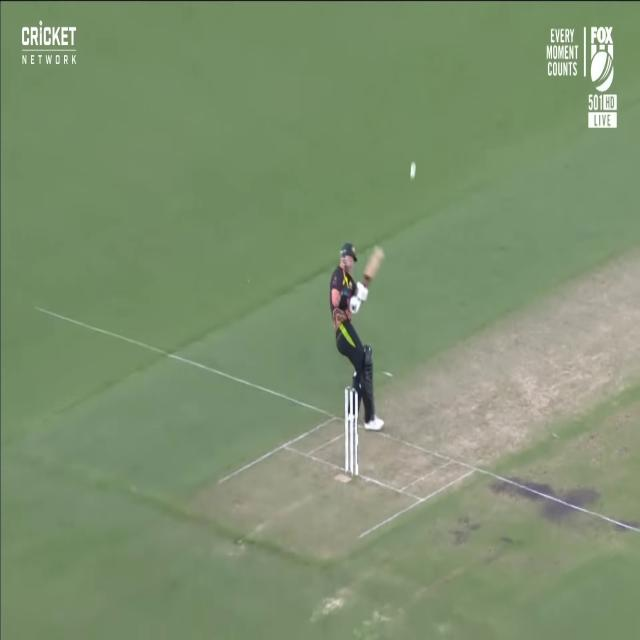ball: (409, 158, 418, 183)
stump: (345, 386, 358, 477)
